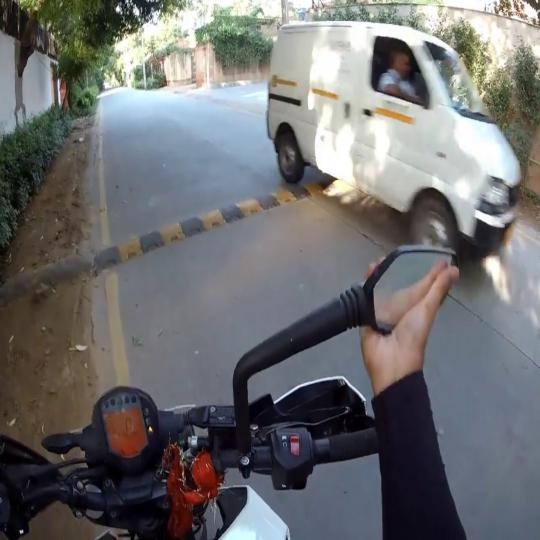Speed Bump: (92, 179, 328, 272)
